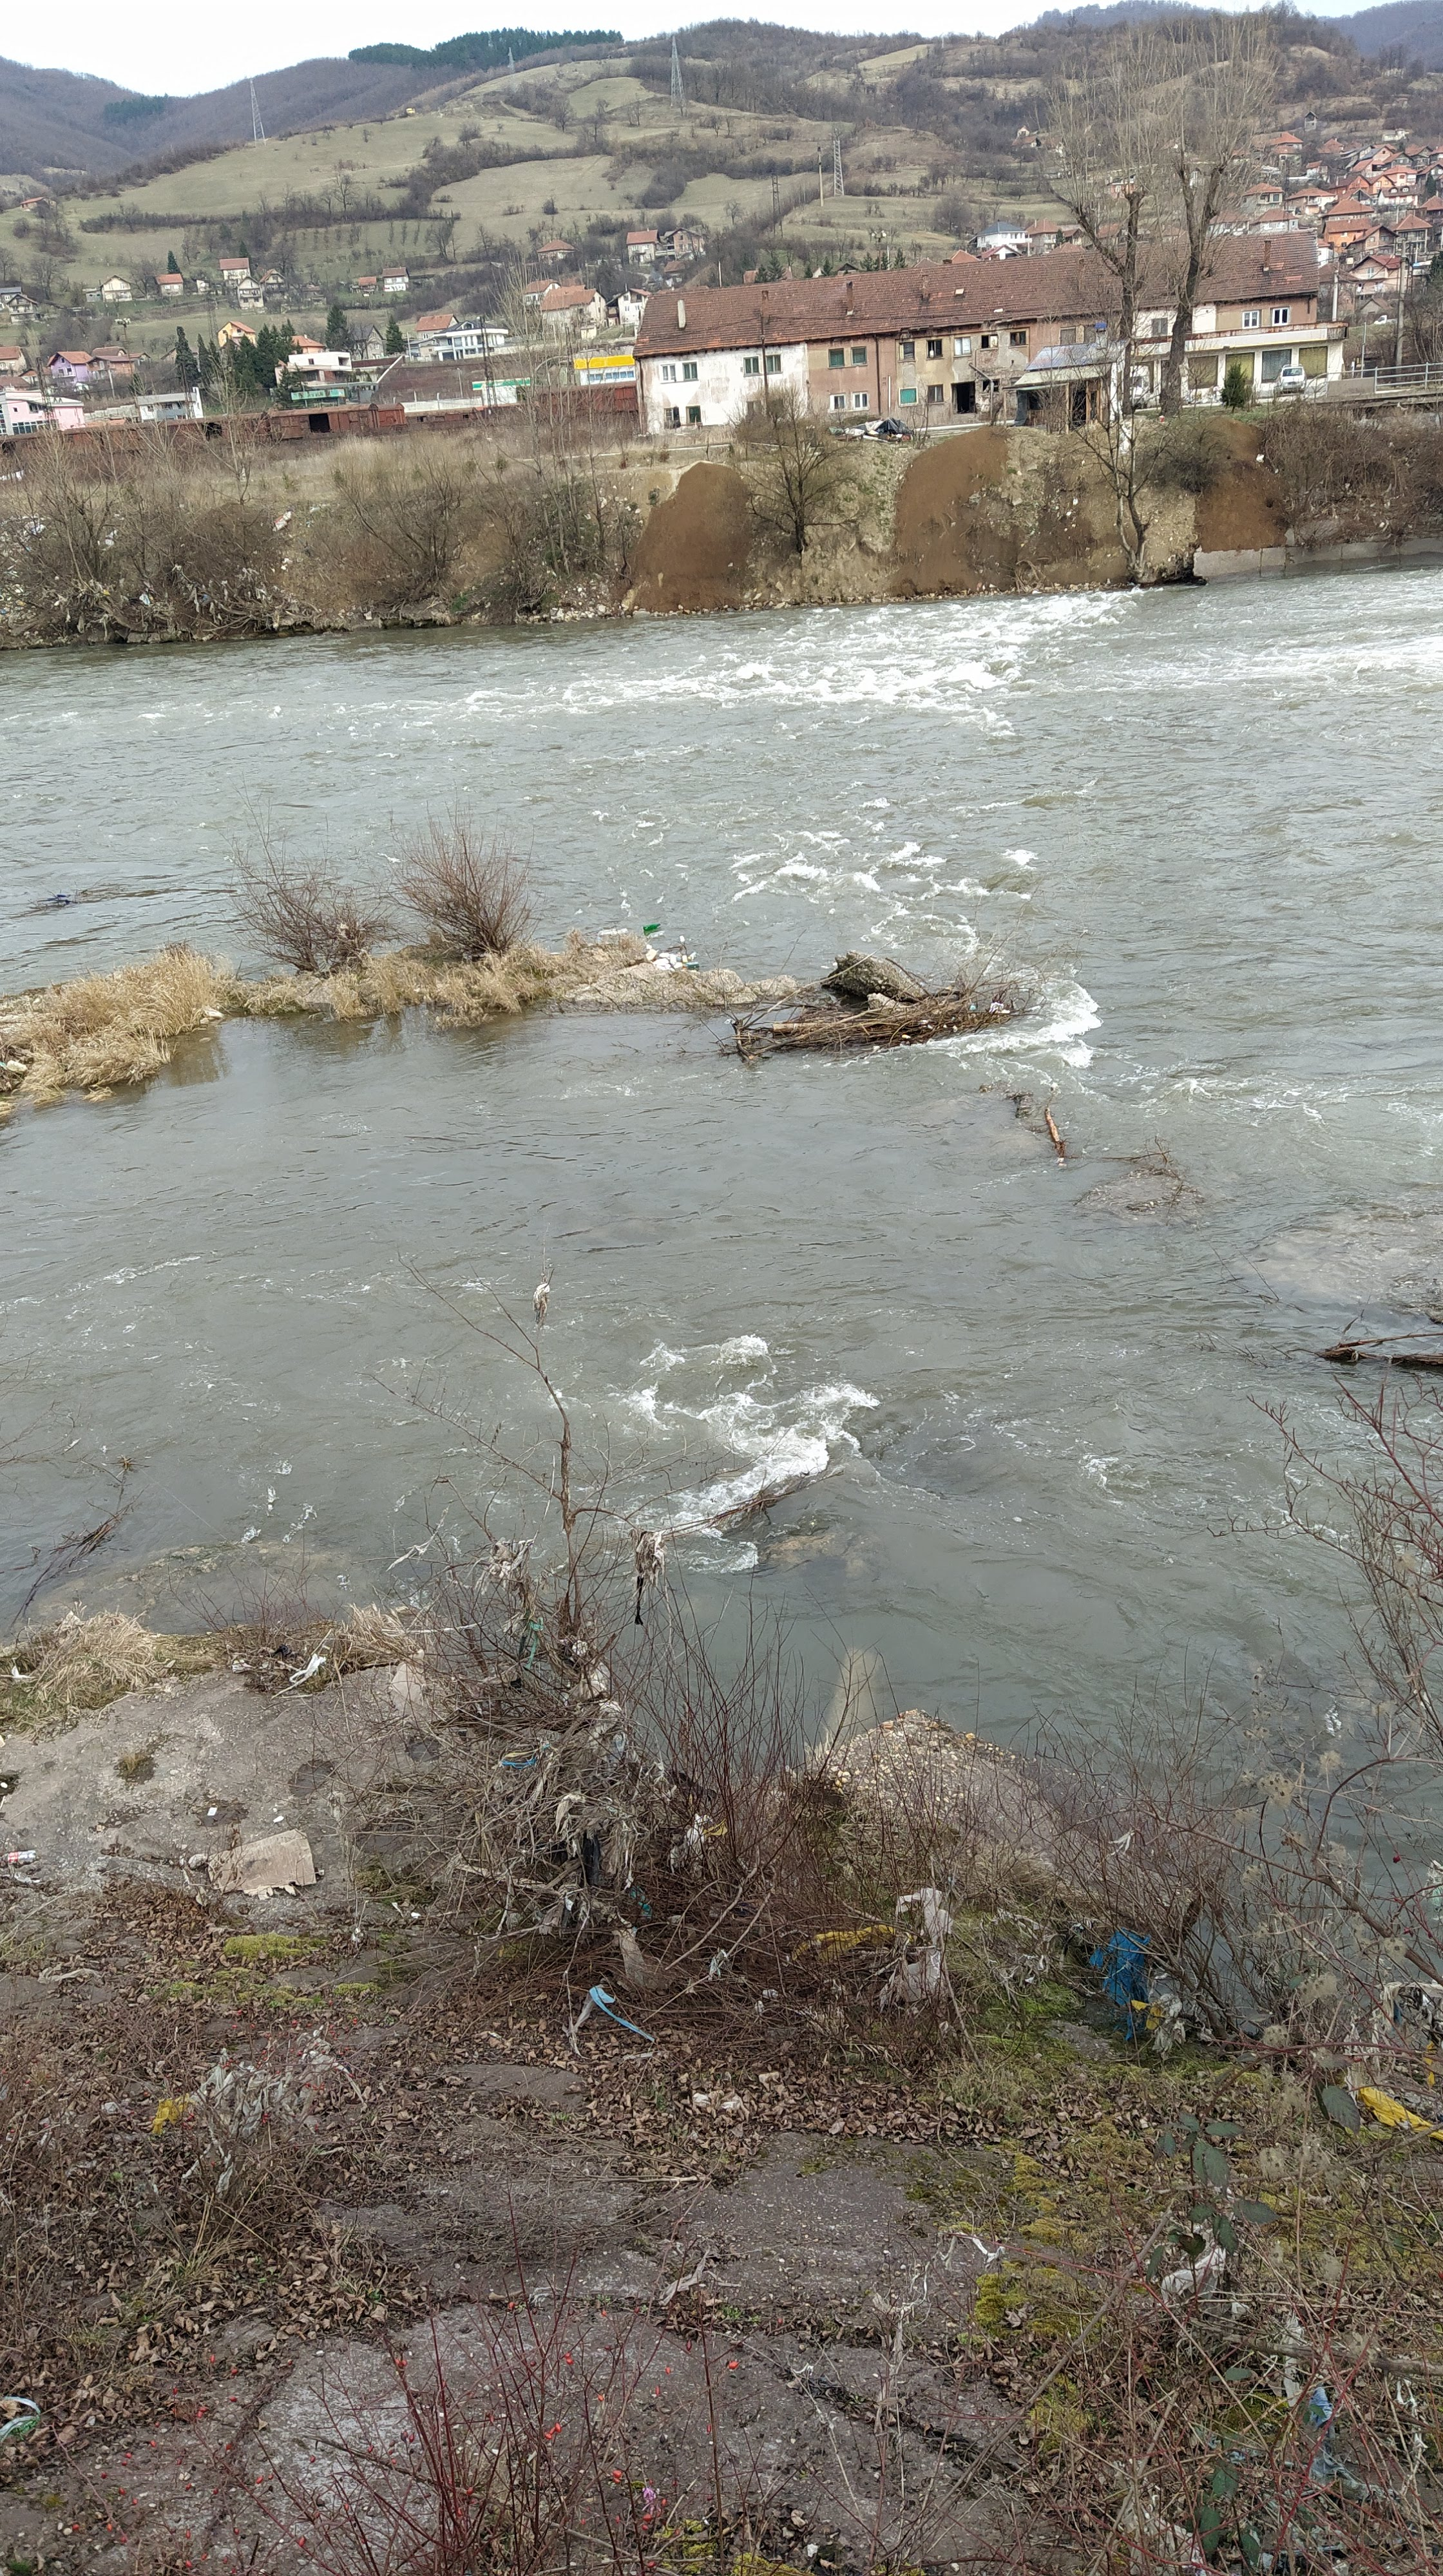Plastic Bottle: (597, 927, 616, 936), (613, 927, 629, 934), (683, 961, 698, 968), (643, 924, 660, 929)
